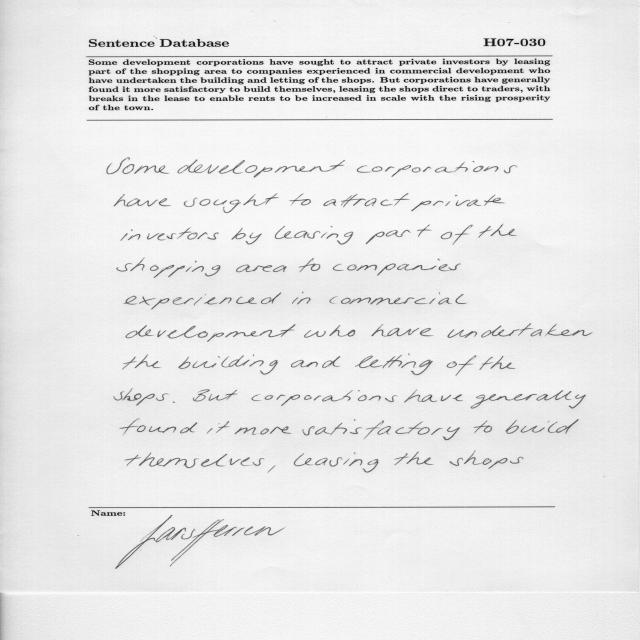word: (302, 419, 460, 440), (126, 324, 295, 342), (178, 160, 345, 178), (125, 293, 282, 310), (357, 161, 517, 177), (252, 390, 398, 406), (117, 257, 221, 278), (333, 259, 461, 276), (125, 453, 264, 468), (471, 391, 586, 409), (448, 324, 593, 338), (178, 355, 278, 375), (184, 194, 279, 213), (329, 292, 467, 305), (294, 453, 378, 473), (355, 354, 433, 375), (411, 195, 505, 211), (275, 226, 353, 244), (450, 451, 524, 469), (121, 228, 218, 241), (366, 225, 432, 244), (120, 419, 197, 435), (324, 194, 409, 208), (505, 419, 579, 434), (107, 158, 169, 174), (114, 389, 168, 406), (371, 324, 433, 337), (404, 390, 463, 403), (114, 194, 171, 207), (304, 325, 355, 338), (441, 225, 473, 245), (447, 355, 476, 376), (291, 356, 340, 368), (123, 355, 161, 370), (193, 390, 237, 402), (235, 426, 292, 435), (478, 225, 517, 238), (394, 452, 433, 465), (480, 356, 516, 370), (231, 228, 262, 244), (236, 265, 287, 273), (299, 258, 320, 272), (207, 421, 229, 434), (289, 194, 311, 205), (474, 420, 492, 433), (292, 292, 311, 304), (268, 465, 275, 473), (173, 401, 175, 403)
